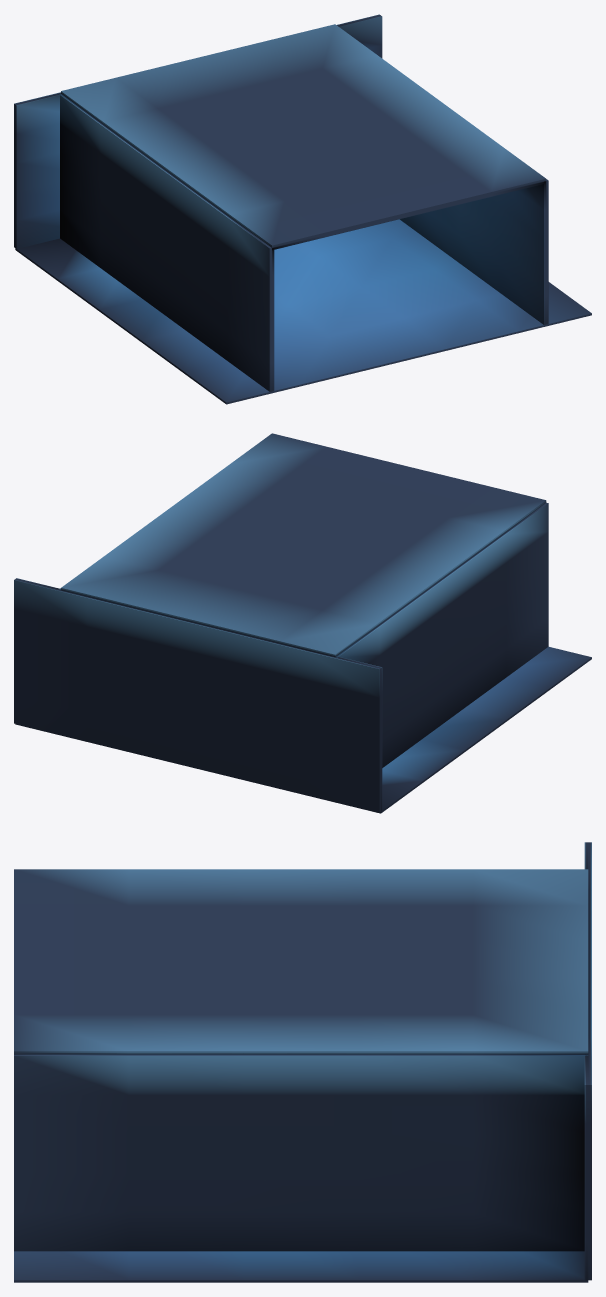
Rendered from cyberpunk-garage.glb.
3 views of the same model, one above another, from view 1: azimuth 30°, elevation 25°; view 2: azimuth 150°, elevation 25°; view 3: azimuth 270°, elevation 25° (orthographic). The views are drawn at different scales.
Parts seen in each view (by area): view 1: garage_environment; view 2: garage_environment; view 3: garage_environment.
Boxes of the visible parts, x1,y1,x2,y2 form: garage_environment: (14,14,591,404); garage_environment: (14,433,591,813); garage_environment: (14,842,591,1282).
Bounding box in the file's own units: 8 × 3.09 × 8.05.
